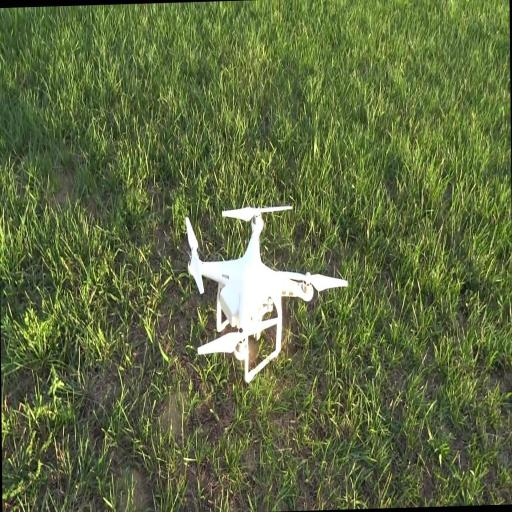drone: (180, 198, 350, 388)
